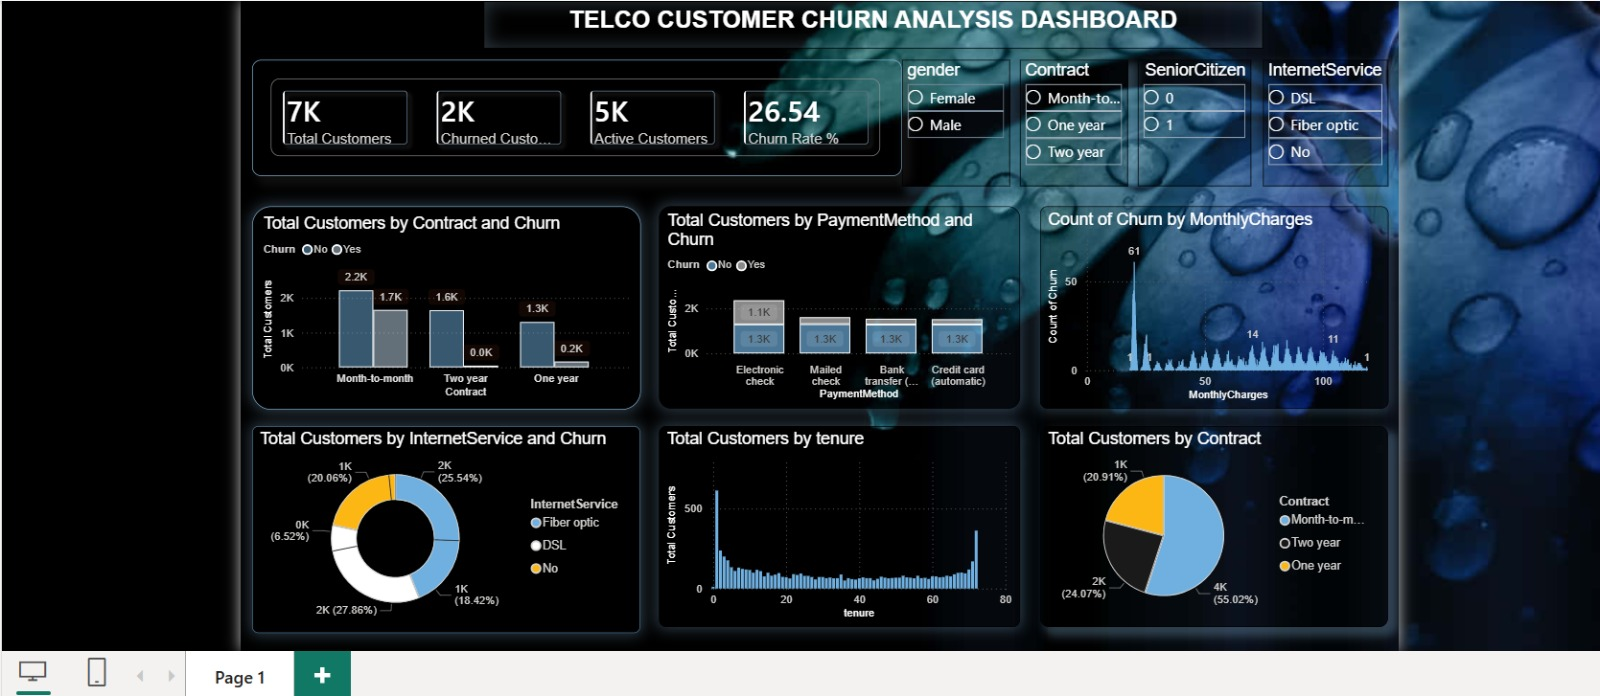

The dashboard page shown, as its layout file describes it:
{"tool":"powerbi","page":{"name":"Page 1","canvas":[1280,720],"ordinal":0},"visuals":[{"type":"cardVisual","fields":{"Data":["WA_Fn-UseC_-Telco-Customer-Churn.Total Customers","WA_Fn-UseC_-Telco-Customer-Churn.Churned Customers","WA_Fn-UseC_-Telco-Customer-Churn.Active Customers","WA_Fn-UseC_-Telco-Customer-Churn.Churn Rate %"]},"box":[12.7,65.2,719,128.8],"z":0},{"type":"clusteredColumnChart","fields":{"Category":["WA_Fn-UseC_-Telco-Customer-Churn.Contract"],"Y":["WA_Fn-UseC_-Telco-Customer-Churn.Total Customers"],"Series":["WA_Fn-UseC_-Telco-Customer-Churn.Churn"]},"box":[12.7,227.5,430,225],"z":1000},{"type":"donutChart","fields":{"Category":["WA_Fn-UseC_-Telco-Customer-Churn.InternetService"],"Series":["WA_Fn-UseC_-Telco-Customer-Churn.Churn"],"Y":["WA_Fn-UseC_-Telco-Customer-Churn.Total Customers"]},"box":[12.7,470.8,429.5,229],"z":2000},{"type":"columnChart","fields":{"Category":["WA_Fn-UseC_-Telco-Customer-Churn.PaymentMethod"],"Y":["WA_Fn-UseC_-Telco-Customer-Churn.Total Customers"],"Series":["WA_Fn-UseC_-Telco-Customer-Churn.Churn"]},"box":[462.9,227.5,399.2,224.3],"z":3000},{"type":"columnChart","fields":{"Y":["WA_Fn-UseC_-Telco-Customer-Churn.Total Customers"],"Category":["WA_Fn-UseC_-Telco-Customer-Churn.tenure"]},"box":[462.9,470.8,399.2,222.7],"z":4000},{"type":"columnChart","fields":{"Category":["WA_Fn-UseC_-Telco-Customer-Churn.MonthlyCharges"],"Y":["CountNonNull(WA_Fn-UseC_-Telco-Customer-Churn.Churn)"]},"box":[884.4,227.5,385,224.3],"z":5000},{"type":"listSlicer","fields":{"Values":["WA_Fn-UseC_-Telco-Customer-Churn.gender"]},"box":[731.7,65.2,119.3,140],"z":6000},{"type":"listSlicer","fields":{"Values":["WA_Fn-UseC_-Telco-Customer-Churn.Contract"]},"box":[862.1,65.2,119.3,140],"z":7000},{"type":"listSlicer","fields":{"Values":["WA_Fn-UseC_-Telco-Customer-Churn.SeniorCitizen"]},"box":[992.5,65.2,125.7,140],"z":8000},{"type":"listSlicer","fields":{"Values":["WA_Fn-UseC_-Telco-Customer-Churn.InternetService"]},"box":[1130.9,65.2,138.4,140],"z":9000},{"type":"textbox","box":[268.8,0,862.1,52.5],"z":10000},{"type":"pieChart","fields":{"Y":["WA_Fn-UseC_-Telco-Customer-Churn.Total Customers"],"Category":["WA_Fn-UseC_-Telco-Customer-Churn.Contract"]},"box":[884.4,470.8,384.9,222.7],"z":10001}]}

Visuals, with their boxes in screenshot pixels (x1, y1, x2, y2):
cardVisual - WA_Fn-UseC_-Telco-Customer-Churn.Total Customers x WA_Fn-UseC_-Telco-Customer-Churn.Churned Customers: 0:68:660:187
clusteredColumnChart - WA_Fn-UseC_-Telco-Customer-Churn.Contract x WA_Fn-UseC_-Telco-Customer-Churn.Total Customers: 0:217:394:424
donutChart - WA_Fn-UseC_-Telco-Customer-Churn.InternetService x WA_Fn-UseC_-Telco-Customer-Churn.Churn: 0:441:394:652
columnChart - WA_Fn-UseC_-Telco-Customer-Churn.PaymentMethod x WA_Fn-UseC_-Telco-Customer-Churn.Total Customers: 413:217:780:424
columnChart - WA_Fn-UseC_-Telco-Customer-Churn.Total Customers x WA_Fn-UseC_-Telco-Customer-Churn.tenure: 413:441:780:646
columnChart - WA_Fn-UseC_-Telco-Customer-Churn.MonthlyCharges x CountNonNull(WA_Fn-UseC_-Telco-Customer-Churn.Churn): 801:217:1154:424
listSlicer - WA_Fn-UseC_-Telco-Customer-Churn.gender: 660:68:770:197
listSlicer - WA_Fn-UseC_-Telco-Customer-Churn.Contract: 780:68:890:197
listSlicer - WA_Fn-UseC_-Telco-Customer-Churn.SeniorCitizen: 900:68:1015:197
listSlicer - WA_Fn-UseC_-Telco-Customer-Churn.InternetService: 1027:68:1154:197
textbox: 235:8:1027:57
pieChart - WA_Fn-UseC_-Telco-Customer-Churn.Total Customers x WA_Fn-UseC_-Telco-Customer-Churn.Contract: 801:441:1154:646
